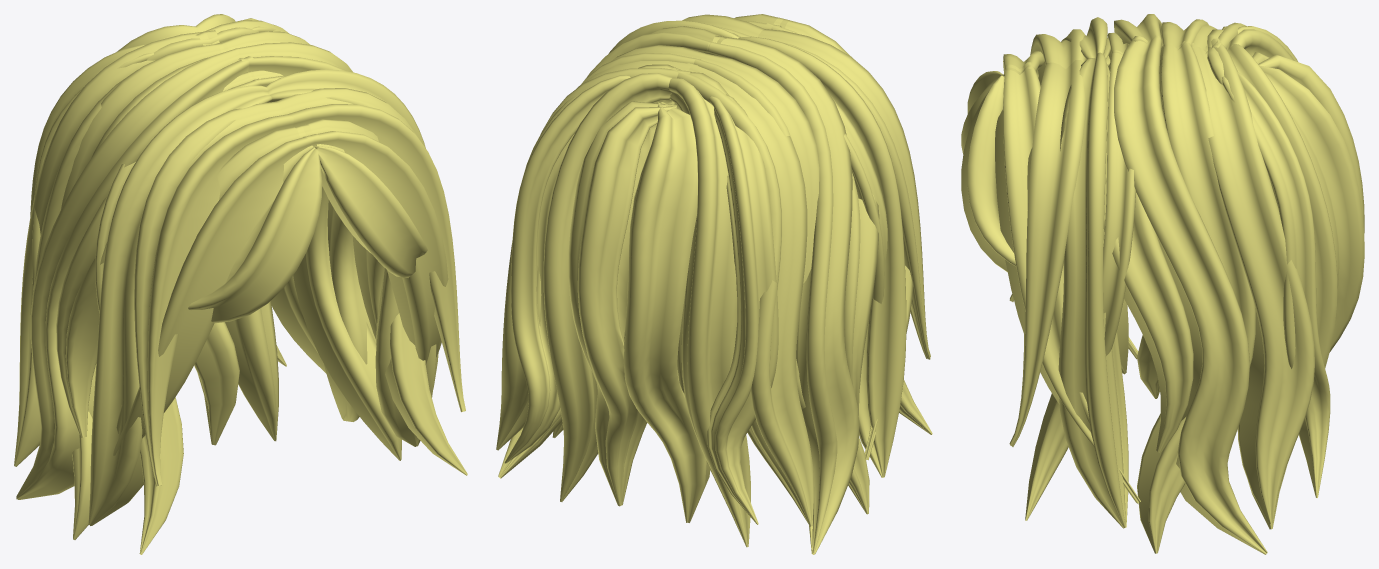
Rendered from Hair_blond.fbx.
3 renders of one model, left to right at view 1: azimuth 30°, elevation 25°; view 2: azimuth 150°, elevation 25°; view 3: azimuth 270°, elevation 25°, orthographic. The views are drawn at different scales.
Parts seen in each view (by area): view 1: NurbsPath.023; view 2: NurbsPath.023; view 3: NurbsPath.023.
Part boxes in pixels (x1,y1,x2,y2): NurbsPath.023: (14, 14, 467, 554); NurbsPath.023: (496, 14, 932, 554); NurbsPath.023: (961, 14, 1364, 554).
Bounding box in the file's own units: 34.95 × 44.26 × 36.21.
